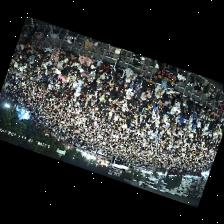person: (113, 54, 125, 78), (156, 78, 167, 96), (143, 78, 155, 93), (151, 88, 162, 104), (79, 54, 92, 67), (90, 79, 101, 94), (164, 88, 177, 100), (86, 70, 97, 84), (105, 79, 116, 93), (126, 67, 137, 81), (105, 68, 114, 85), (174, 94, 181, 115), (155, 99, 164, 115), (180, 95, 189, 111), (141, 86, 152, 99), (97, 72, 107, 86), (164, 100, 171, 119), (99, 62, 110, 74), (43, 44, 53, 57), (134, 97, 143, 111), (133, 80, 143, 92), (195, 103, 203, 117), (56, 59, 64, 73), (68, 65, 78, 76), (68, 53, 78, 64), (134, 74, 143, 86), (126, 84, 133, 99), (83, 76, 93, 86), (122, 76, 131, 87), (114, 79, 123, 90), (181, 112, 188, 126), (175, 112, 182, 126), (76, 69, 84, 81), (187, 100, 194, 113), (59, 47, 66, 60), (83, 65, 92, 75), (35, 45, 45, 54), (72, 60, 81, 70), (91, 59, 101, 68), (50, 54, 59, 64), (41, 60, 50, 70), (209, 110, 217, 120), (52, 46, 60, 56), (171, 119, 177, 132), (137, 90, 143, 103), (193, 111, 199, 124), (68, 74, 76, 83), (95, 66, 101, 77), (58, 75, 66, 83), (203, 123, 209, 133), (31, 41, 36, 53), (189, 113, 194, 125), (34, 54, 42, 61), (216, 114, 223, 122), (158, 62, 166, 69), (27, 42, 32, 53), (63, 58, 69, 67), (52, 61, 58, 69), (79, 67, 84, 76)
